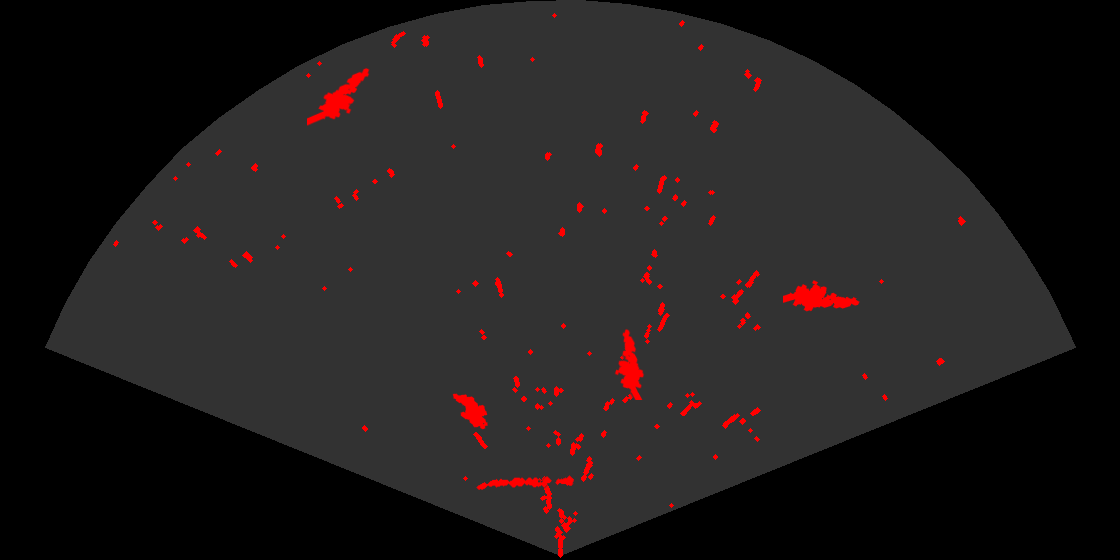AUV: (451, 392, 489, 431)
chain: (475, 474, 574, 491)
frogman: (307, 66, 371, 127), (783, 279, 861, 313), (613, 327, 646, 400)
